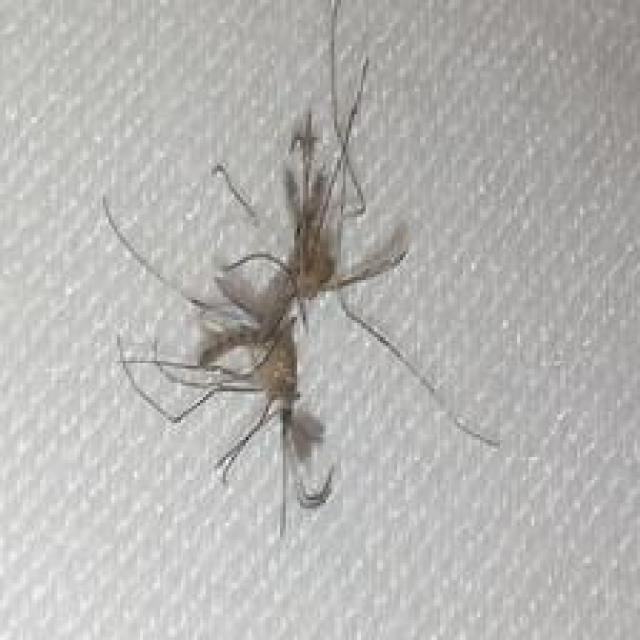Culex: (100, 1, 503, 538)
